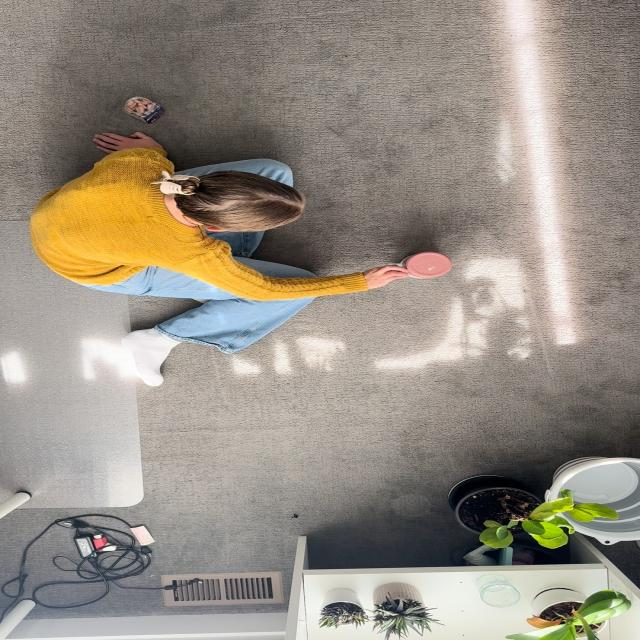IBC: (399, 252, 452, 279)
